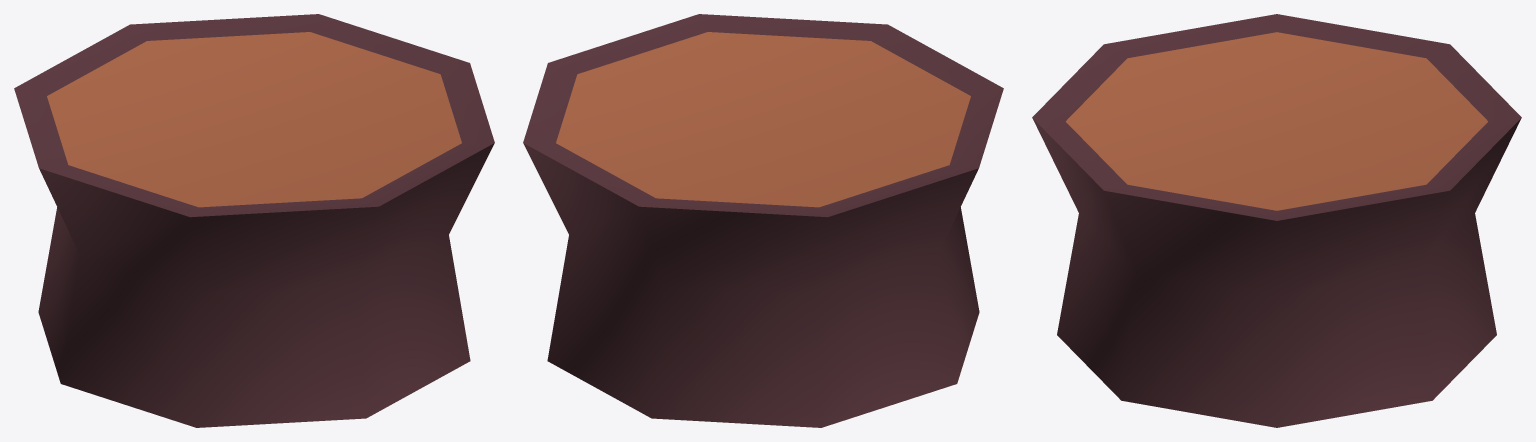
The model's file is BancoTronco.fbx.
The picture shows the model from 3 angles, left to right: view 1: azimuth 30°, elevation 25°; view 2: azimuth 150°, elevation 25°; view 3: azimuth 270°, elevation 25°; orthographic projection.
Parts seen in each view (by area): view 1: Cylinder.033; view 2: Cylinder.033; view 3: Cylinder.033.
Boxes of the visible parts, bbox=[...] form: Cylinder.033: bbox=[14, 14, 494, 427]; Cylinder.033: bbox=[523, 14, 1003, 427]; Cylinder.033: bbox=[1032, 14, 1521, 427].
Size of the model in its own units: 0.6043 by 0.2961 by 0.6043.
